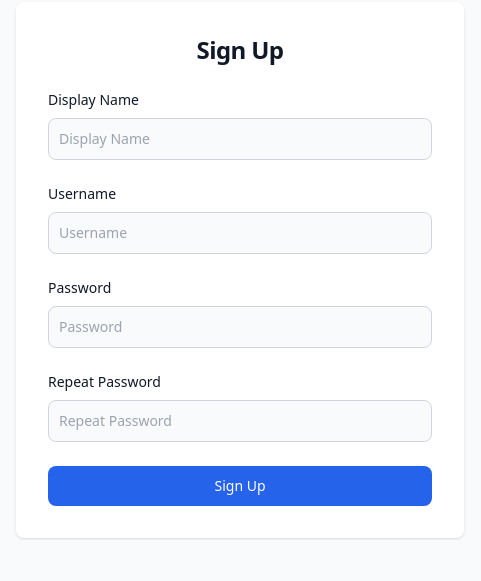
it: UserSignupPage › Interactions › hides the validation error when user changes the content of username
Type "my-display-name" into the field with placeholder "Display Name". click: (240, 139)
box: [48,118,432,160]
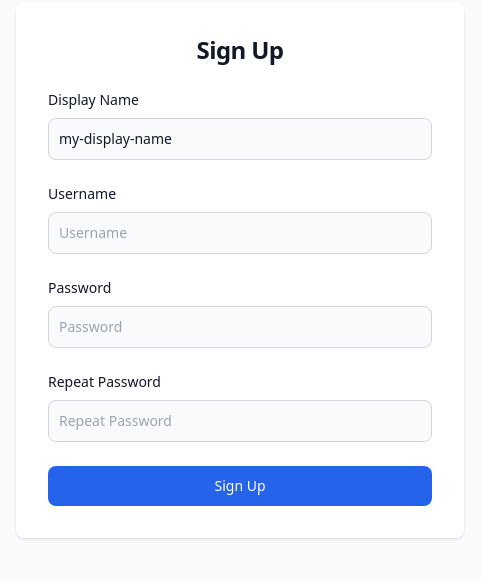
Type "my-user-name" into the field with placeholder "Username". click: (240, 233)
box: [48,212,432,254]
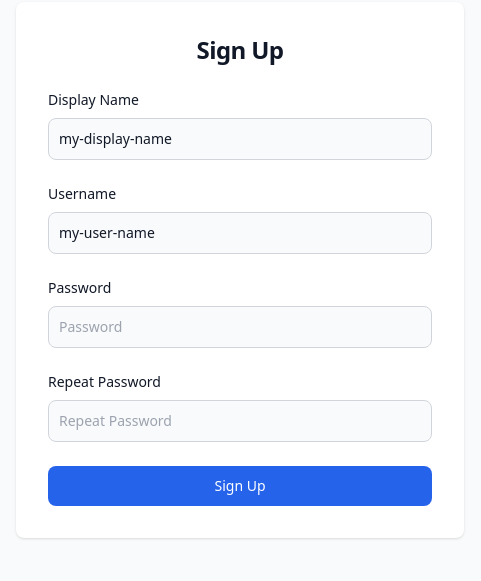
Type "P4ssword" into the password field with placeholder "Password". click: (240, 327)
box: [48,306,432,348]
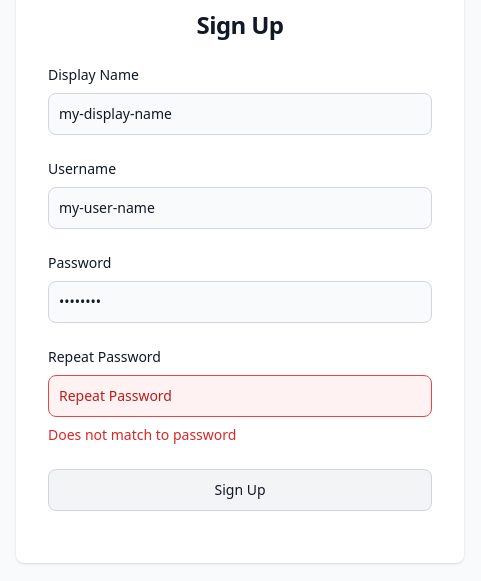
Type "P4ssword" into the password field with placeholder "Repeat Password". click: (240, 396)
box: [48,375,432,417]
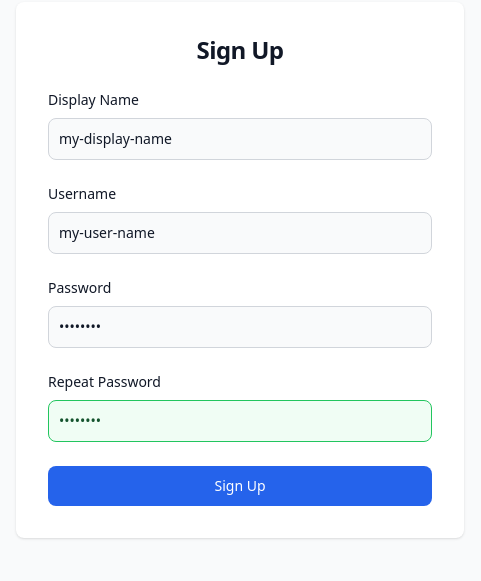
Click the button "Sign Up". click: (240, 486)
box: [48,466,432,506]
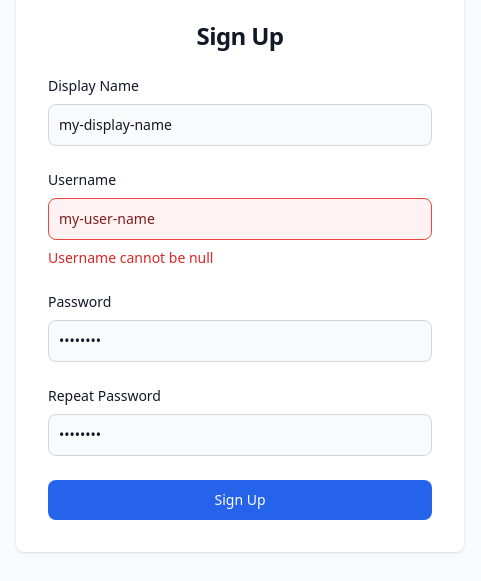
Check: the text "Username cannot be null" is shown, box [48,248,214,267]
Replace the text in the 2nd field with placeholder "Username" with "name updated". click: (240, 219)
box: [48,198,432,240]
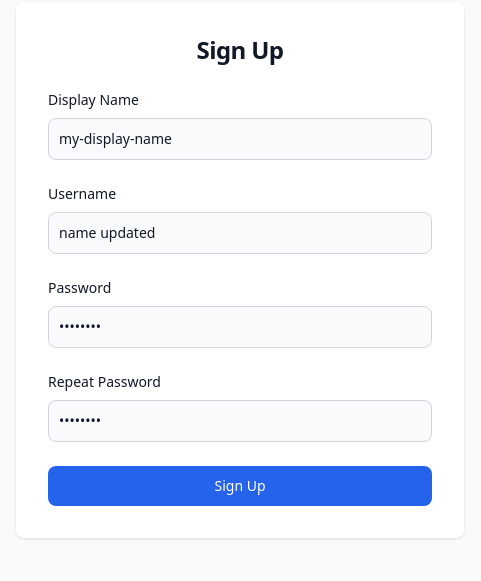
Check: the text "Username cannot be null" is gone
